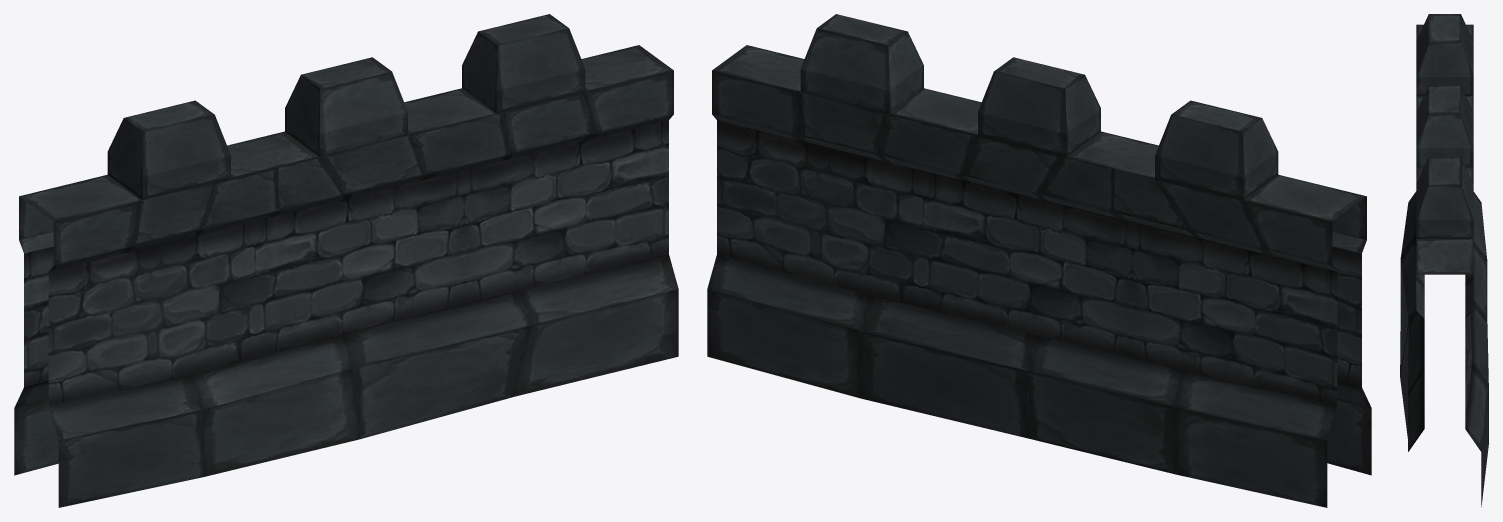
Rendered from cp_wall.FBX.
The picture shows the model from 3 angles, left to right: view 1: azimuth 30°, elevation 25°; view 2: azimuth 150°, elevation 25°; view 3: azimuth 270°, elevation 25°; orthographic projection. The views are drawn at different scales.
Parts seen in each view (by area): view 1: wall; view 2: wall; view 3: wall.
Boxes of the visible parts, x1,y1,x2,y2 form: wall: (14,14,678,507); wall: (707,14,1371,507); wall: (1400,14,1488,507).
Bounding box in the file's own units: 73.15 × 38.66 × 11.
